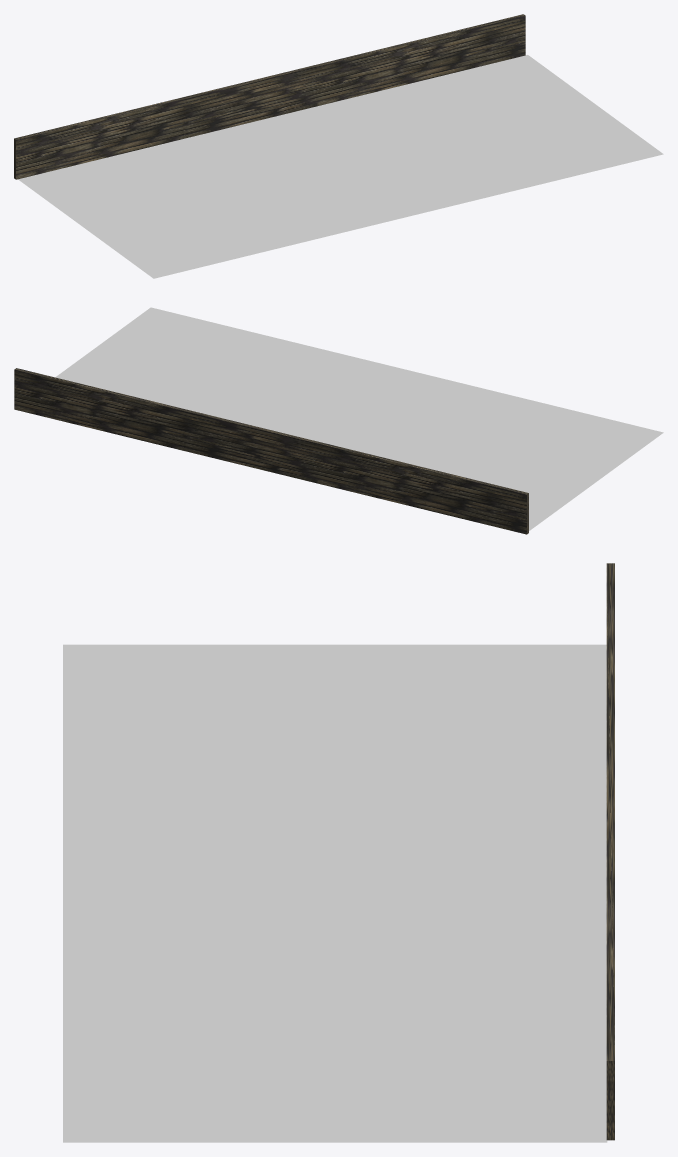
The model's file is GroundWall.FBX.
3 views of the same model, one above another, from view 1: azimuth 30°, elevation 25°; view 2: azimuth 150°, elevation 25°; view 3: azimuth 270°, elevation 25° (orthographic). The views are drawn at different scales.
Visible parts, largest first — view 1: GroundWall, Wall001; view 2: GroundWall, Wall001; view 3: GroundWall, Wall001.
Part boxes in pixels (x1=…): GroundWall: x1=18, y1=55, x2=663, y2=278; Wall001: x1=14, y1=14, x2=525, y2=179; GroundWall: x1=55, y1=307, x2=663, y2=530; Wall001: x1=14, y1=368, x2=528, y2=534; GroundWall: x1=63, y1=644, x2=607, y2=1142; Wall001: x1=606, y1=563, x2=614, y2=1140.
Bounding box in the file's own units: 34.91 × 2.59 × 16.31.
1 material, 1 textured.
